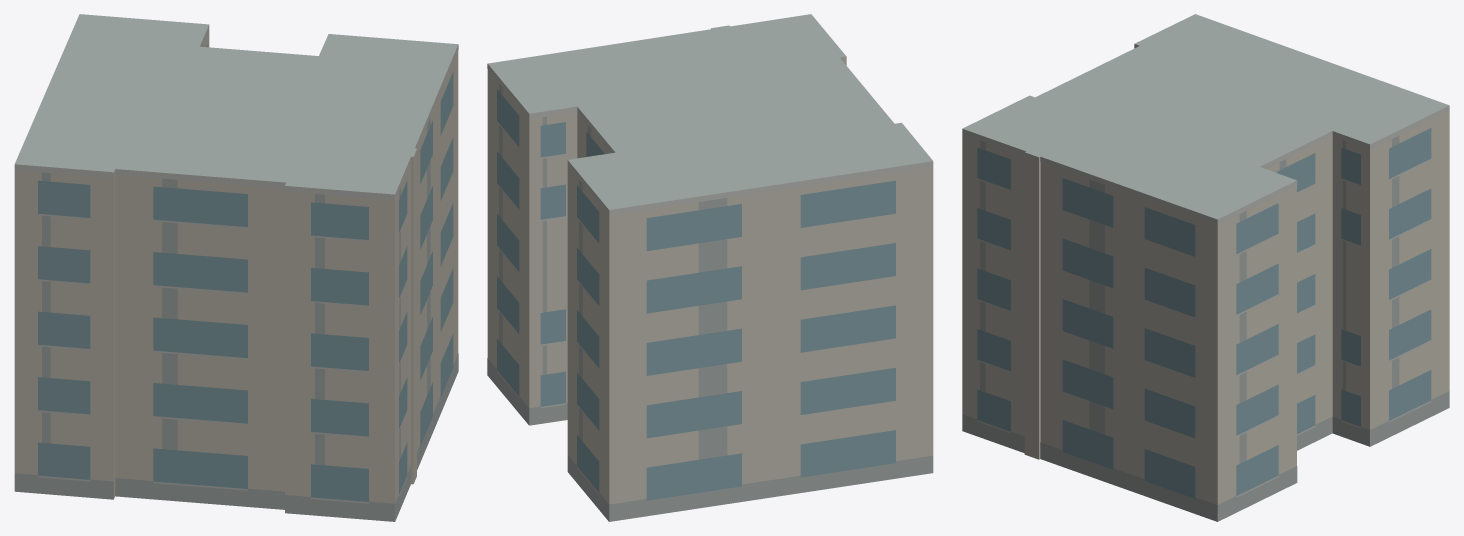
Rendered from survey-upis-33037464.glb.
The picture shows the model from 3 angles, left to right: view 1: azimuth 30°, elevation 25°; view 2: azimuth 150°, elevation 25°; view 3: azimuth 270°, elevation 25°; orthographic projection. The views are drawn at different scales.
Visible parts, largest first — view 1: survey-upis-33037464.tmp; view 2: survey-upis-33037464.tmp; view 3: survey-upis-33037464.tmp.
Part boxes in pixels (x1,y1,x2,y2): survey-upis-33037464.tmp: [14, 14, 458, 521]; survey-upis-33037464.tmp: [487, 14, 933, 521]; survey-upis-33037464.tmp: [962, 14, 1449, 521].
Size of the model in its own units: 19.97 by 13.7 by 20.02.
